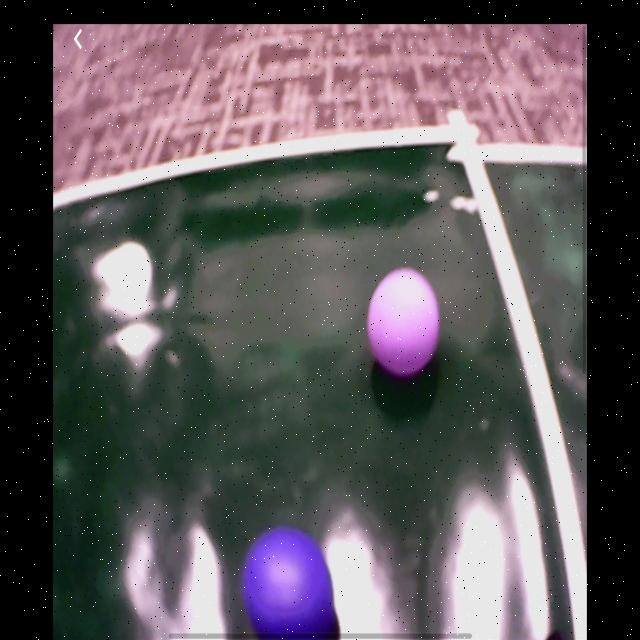ball: (243, 527, 335, 634), (369, 271, 442, 380)
